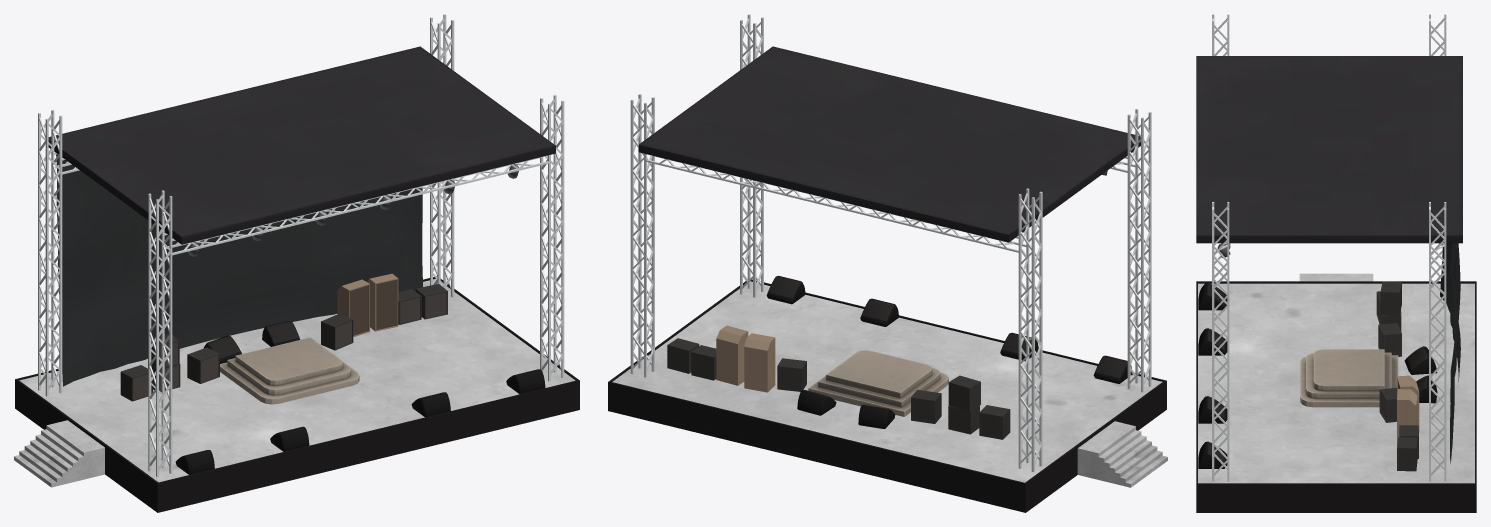
The picture shows the model from 3 angles, left to right: view 1: azimuth 30°, elevation 25°; view 2: azimuth 150°, elevation 25°; view 3: azimuth 270°, elevation 25°; orthographic projection.
Visible parts, largest first — view 1: concert-stage.main.final__0; view 2: concert-stage.main.final__0; view 3: concert-stage.main.final__0.
Boxes of the visible parts, <box> form: concert-stage.main.final__0: <box>14,14,579,512</box>; concert-stage.main.final__0: <box>608,14,1167,512</box>; concert-stage.main.final__0: <box>1196,14,1476,512</box>.
Size of the model in its own units: 2202 by 1348 by 1143.
Materials: 1 (1 with a texture image).
